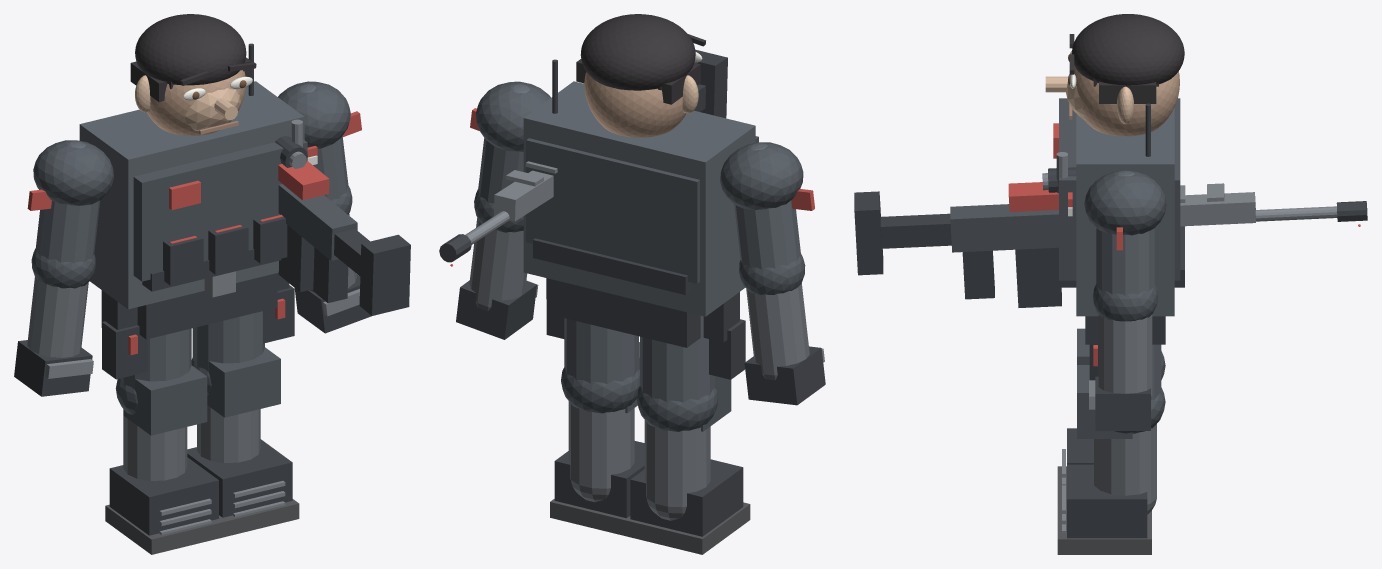
Rendered from prabowo-enemy-v2.glb.
3 renders of one model, left to right at view 1: azimuth 30°, elevation 25°; view 2: azimuth 150°, elevation 25°; view 3: azimuth 270°, elevation 25°, orthographic. The views are drawn at different scales.
Parts seen in each view (by area): view 1: Body, LeftLeg, RightLeg, LeftArm, Rifle, Head, RightArm, Pelvis; view 2: Body, LeftLeg, LeftArm, RightLeg, Head, RightArm, Pelvis, Rifle; view 3: Rifle, RightArm, Body, RightLeg, Head, LeftLeg, Pelvis.
Part boxes in pixels (x1,y1,x2,y2): Body: [79, 81, 317, 309]; LeftLeg: [102, 321, 225, 554]; RightLeg: [187, 285, 299, 536]; LeftArm: [14, 140, 113, 396]; Rifle: [275, 136, 410, 315]; Head: [130, 14, 256, 135]; RightArm: [278, 81, 371, 333]; Pelvis: [101, 271, 289, 339]; Body: [523, 81, 758, 316]; LeftLeg: [626, 316, 750, 554]; LeftArm: [720, 142, 825, 405]; RightLeg: [546, 299, 644, 536]; Head: [576, 14, 705, 137]; RightArm: [456, 81, 550, 339]; Pelvis: [546, 278, 739, 347]; Rifle: [439, 49, 727, 262]; Rifle: [854, 167, 1367, 307]; RightArm: [1084, 170, 1166, 430]; Body: [1053, 98, 1184, 316]; RightLeg: [1057, 344, 1165, 554]; Head: [1045, 14, 1184, 136]; LeftLeg: [1057, 328, 1165, 502]; Pelvis: [1085, 316, 1165, 344].
Bounding box in the file's own units: 1.69 × 2.39 × 2.24.
Materials: 9 (6 with a texture image).
